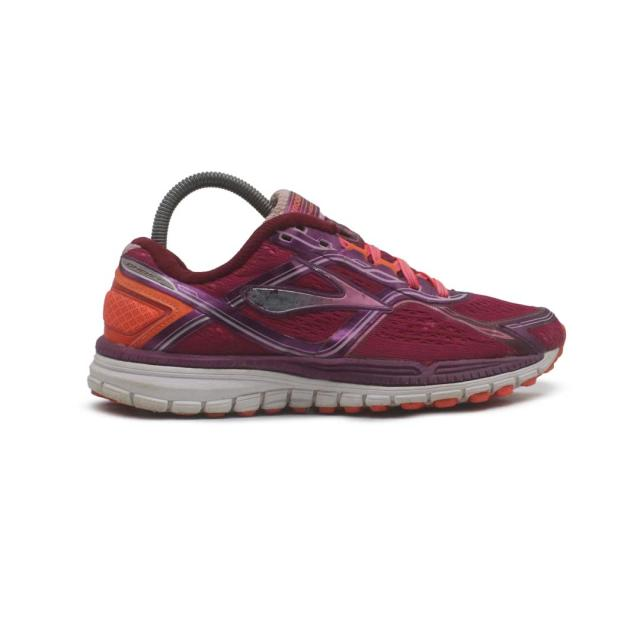heel: (105, 238, 182, 360)
midsole: (89, 344, 565, 416)
uppersole: (181, 197, 567, 359)
